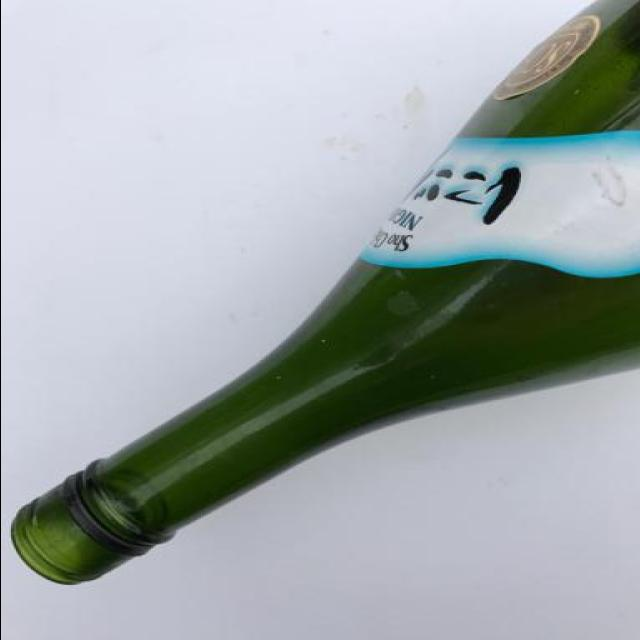litter: (3, 2, 637, 588)
